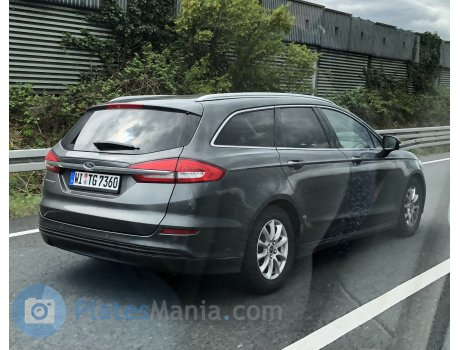License Plates: (73, 170, 119, 188)
